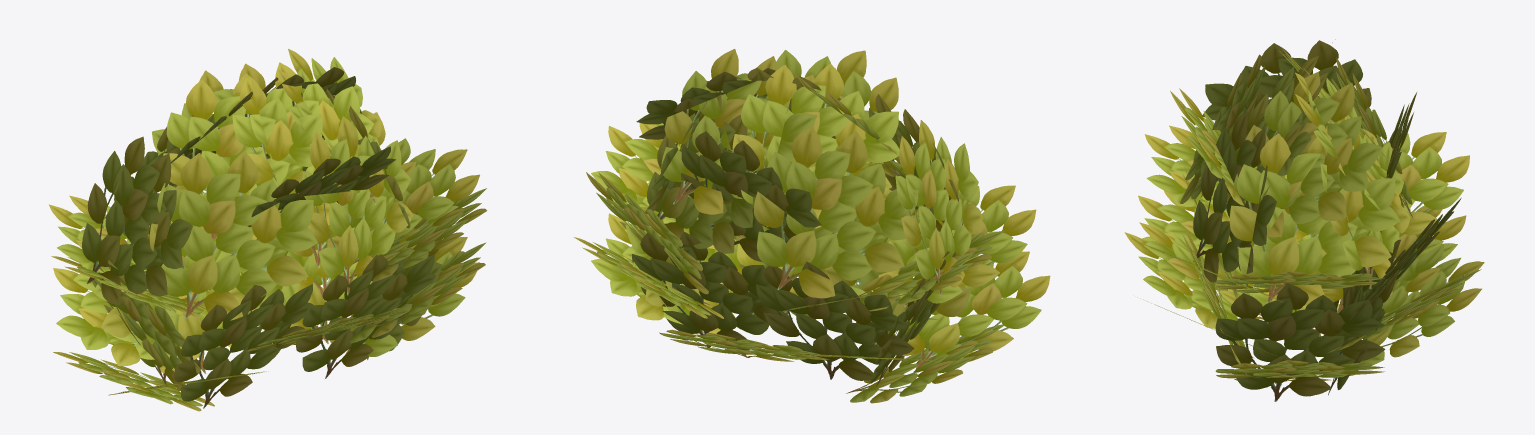
The model's file is Bush 2.fbx.
The picture shows the model from 3 angles, left to right: view 1: azimuth 30°, elevation 25°; view 2: azimuth 150°, elevation 25°; view 3: azimuth 270°, elevation 25°; orthographic projection.
Parts seen in each view (by area): view 1: BUSHES; view 2: BUSHES; view 3: BUSHES.
Part boxes in pixels (x1=…): BUSHES: x1=49, y1=49, x2=487, y2=411; BUSHES: x1=573, y1=49, x2=1050, y2=403; BUSHES: x1=1124, y1=39, x2=1484, y2=401.
Size of the model in its own units: 0.1905 by 0.1391 by 0.1538.
1 material, 1 textured.
